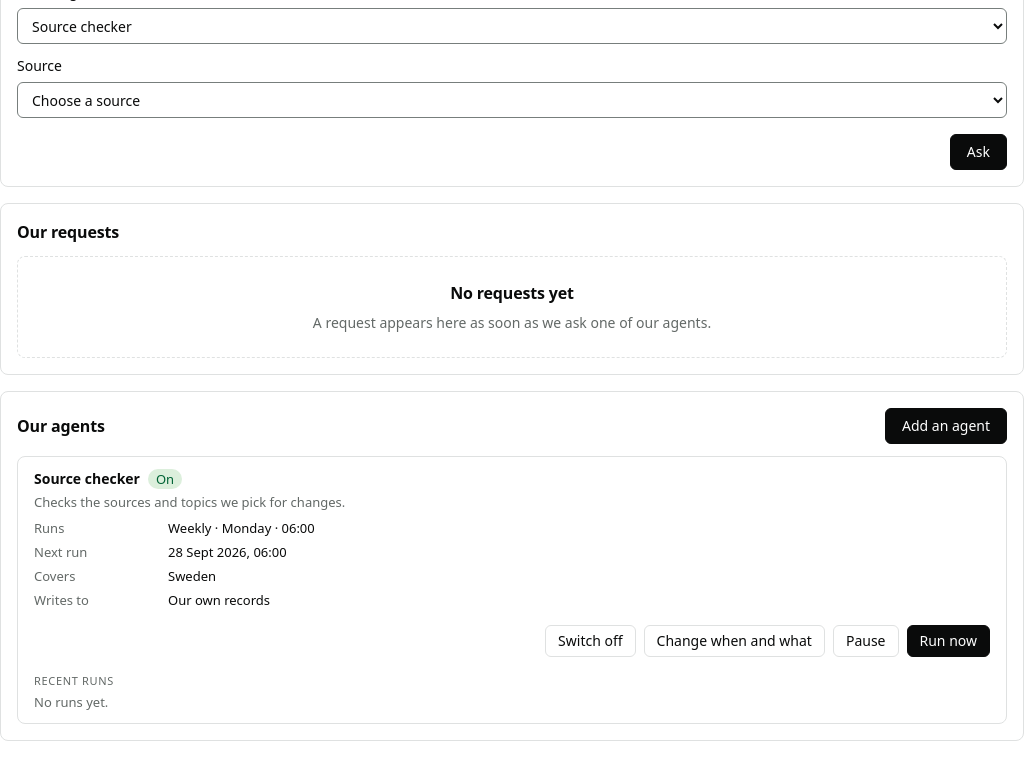
Scenario: admin agents screen › runs an agent now and says where the run is
(page scrolled)
Check: the element that starts with "Source checker" is shown, box left=17, top=456, right=1007, bottom=724
Click the button "Run now". click: click(948, 641)
box: left=906, top=625, right=990, bottom=657
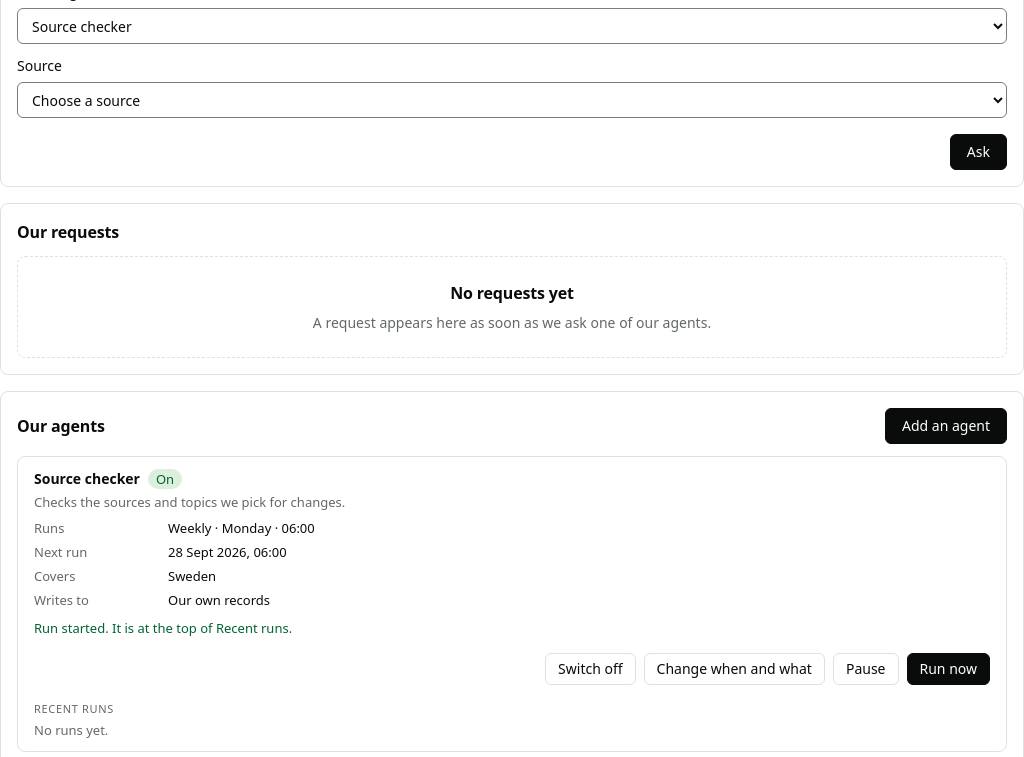
Check: the text "Run started. It is at the top of Recent runs." is shown, box left=34, top=619, right=292, bottom=637
